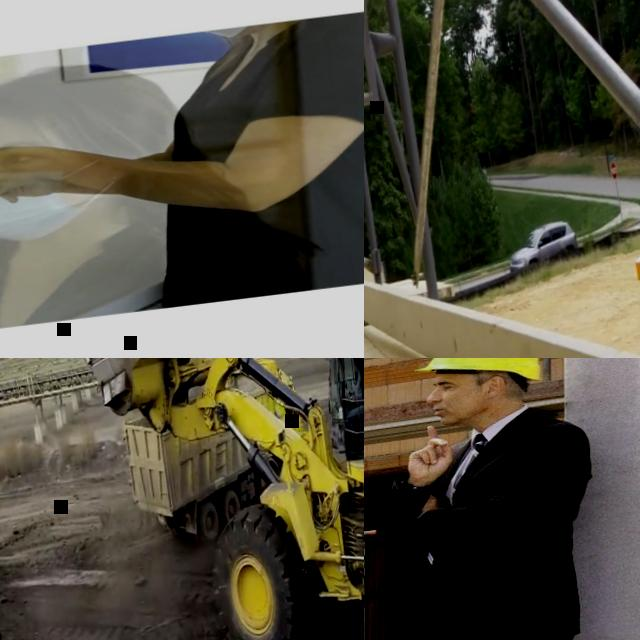Hardhat: (413, 358, 540, 394)
Mask: (0, 164, 97, 252), (202, 24, 248, 42)
NO-Hardhat: (0, 58, 152, 140), (352, 358, 359, 364)
NO-Mask: (429, 390, 495, 426), (352, 366, 358, 374)
NO-Safety Vest: (139, 13, 364, 299), (387, 416, 606, 640), (0, 216, 219, 335), (353, 370, 364, 396)
Person: (0, 46, 274, 333), (364, 358, 640, 640), (130, 5, 364, 306), (338, 358, 364, 409)
vehicle: (48, 358, 364, 640), (114, 358, 310, 554), (503, 219, 581, 273)
